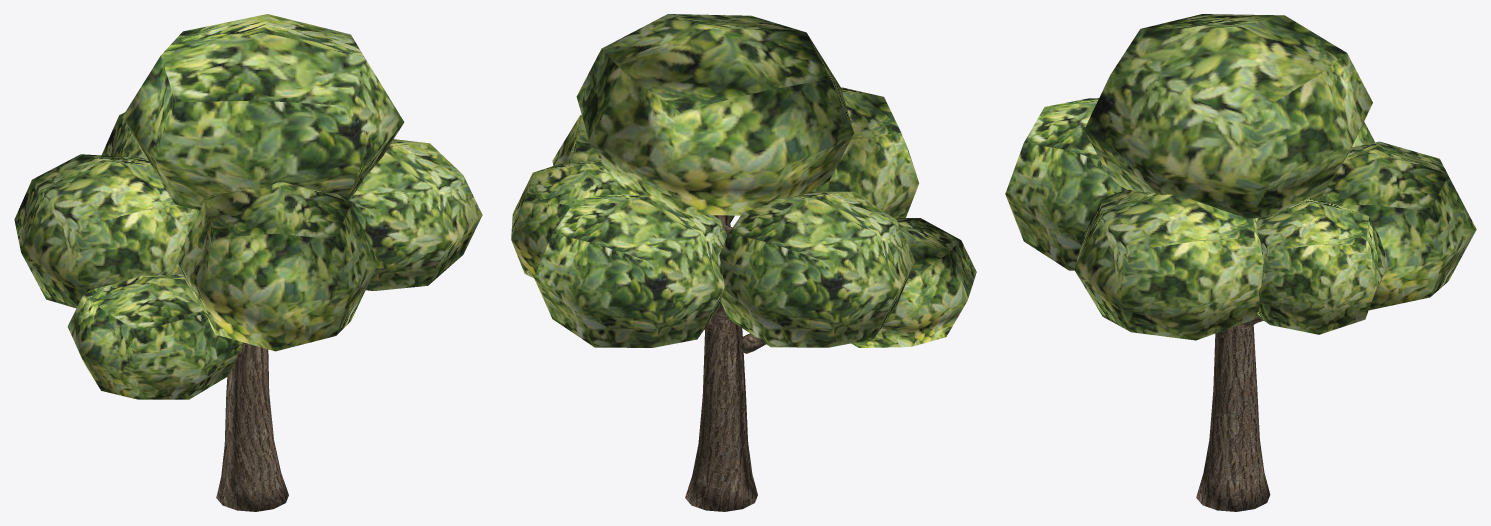
Rendered from tree_1.glb.
3 renders of one model, left to right at view 1: azimuth 30°, elevation 25°; view 2: azimuth 150°, elevation 25°; view 3: azimuth 270°, elevation 25°, orthographic. The views are drawn at different scales.
Parts seen in each view (by area): view 1: tree_1; view 2: tree_1; view 3: tree_1.
Boxes of the visible parts, <box> form: tree_1: <box>14,14,482,511</box>; tree_1: <box>511,14,976,511</box>; tree_1: <box>1005,14,1476,511</box>.
Bounding box in the file's own units: 3.8 × 4.28 × 3.88.
2 materials, 2 textured.
